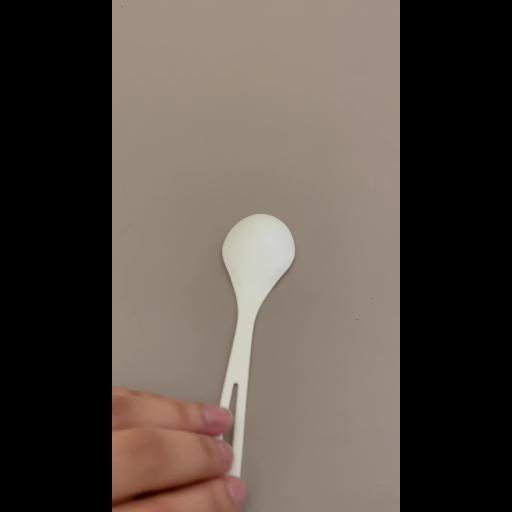utensil: (202, 201, 303, 512)
